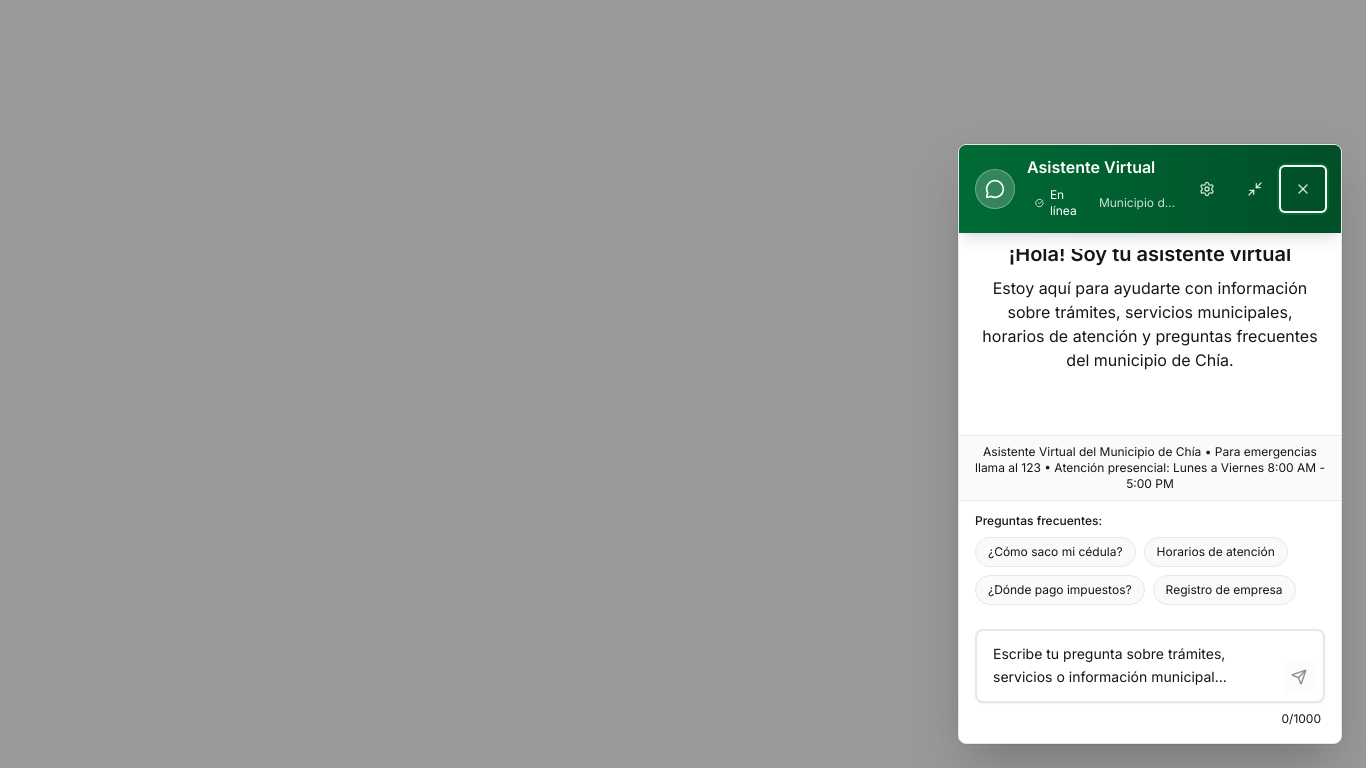
Scenario: UX-003: Chat Widget Backdrop Tests › Backdrop Functionality › should close widget when clicking on backdrop
(page scrolled)
Expected: the dialog with test id "chat-widget" is shown, left=958, top=144, right=1342, bottom=744
Note: Click on backdrop
Click the element with test id "chat-backdrop": (683,384) left=0, top=0, right=1365, bottom=767
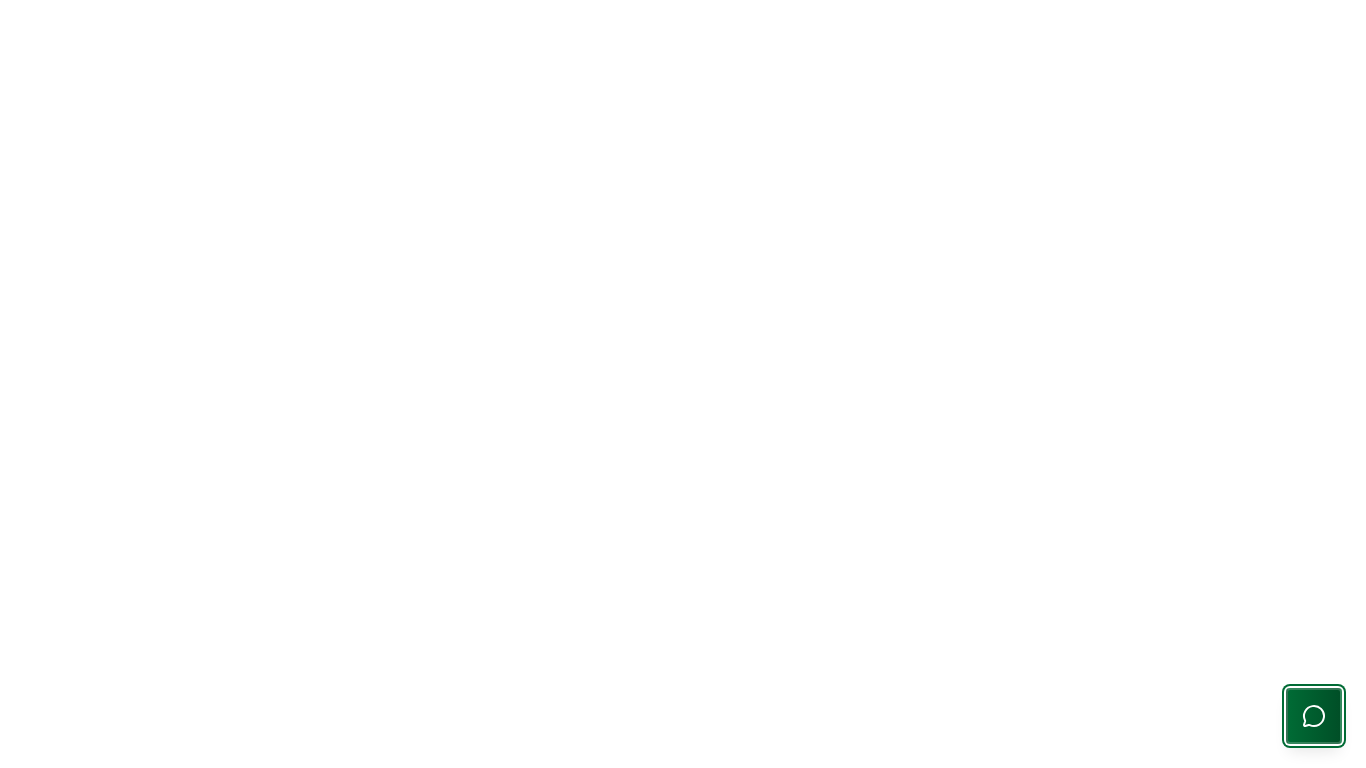
Expected: the element with test id "chat-backdrop" is gone
Expected: the dialog with test id "chat-widget" is gone
